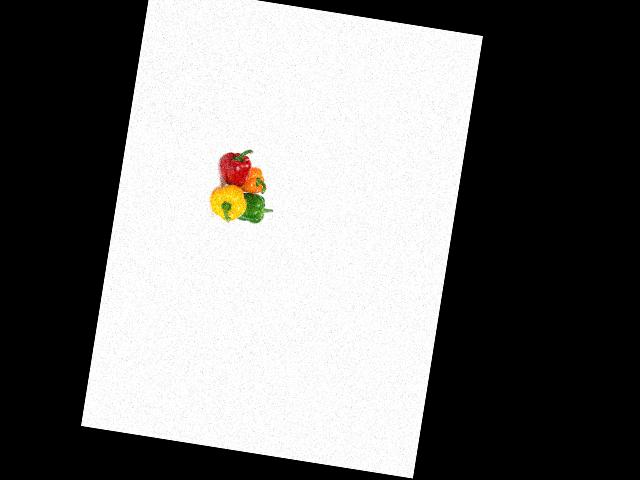bell_pepper: (205, 180, 249, 226)
